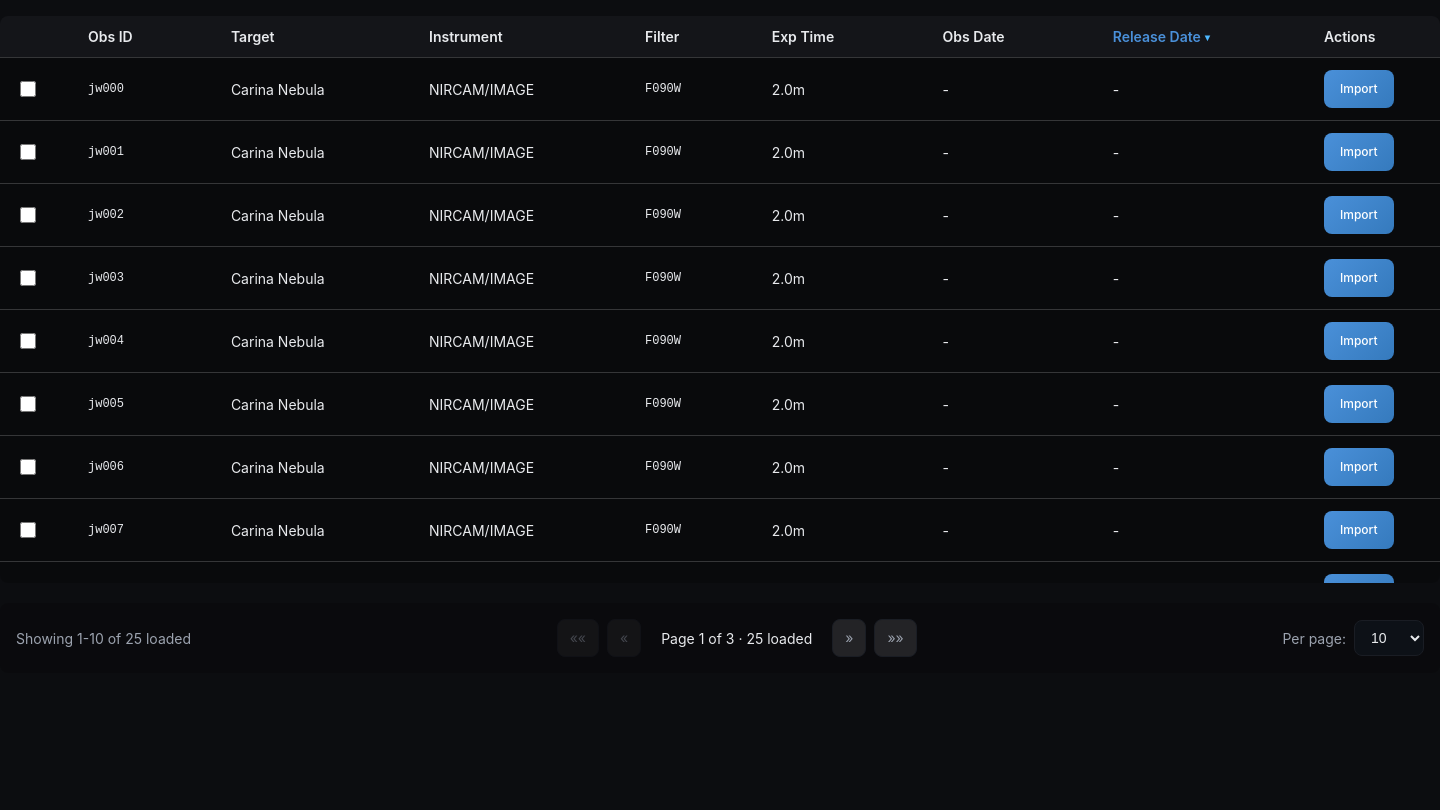
Test case: ResultsTable › pages client-side and says how many rows are loaded
Expected: the text "Page 1 of 3 · 25 loaded" is shown, [649,630,824,646]
Click the button titled "Next page": point(849, 638) [832,619,866,657]
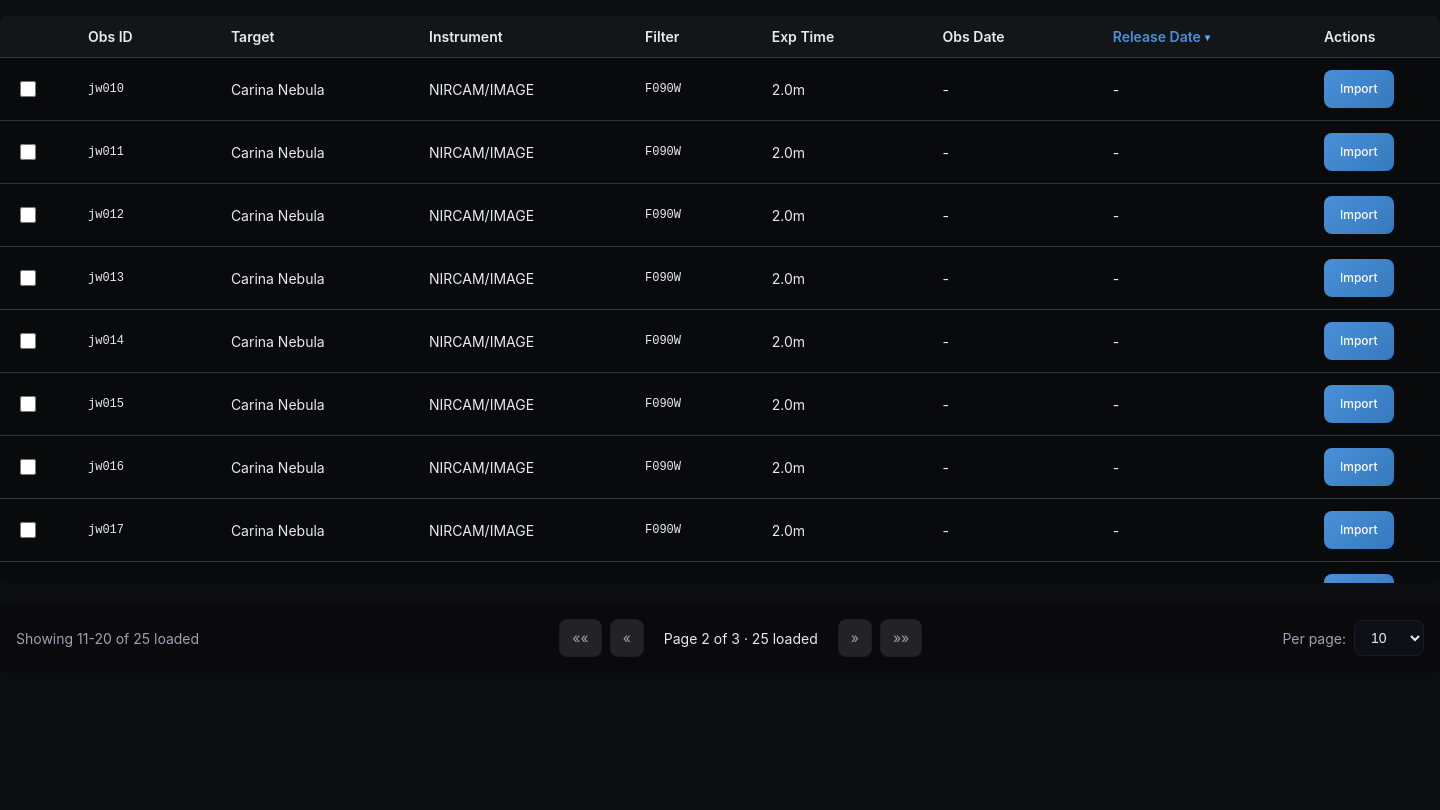
Expected: the text "Page 2 of 3 · 25 loaded" is shown, [652,630,830,646]
